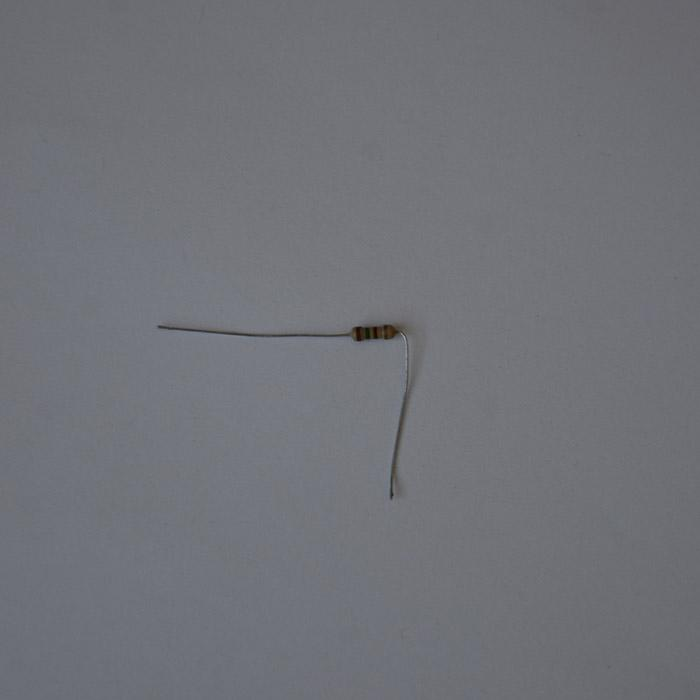resistor: (352, 324, 397, 340)
